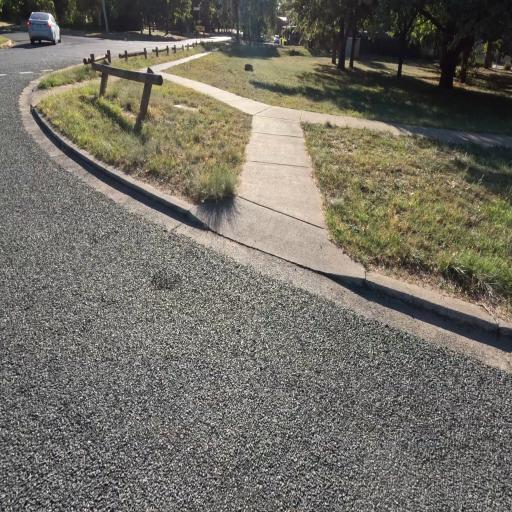kerb_cut: (212, 202, 327, 292)
